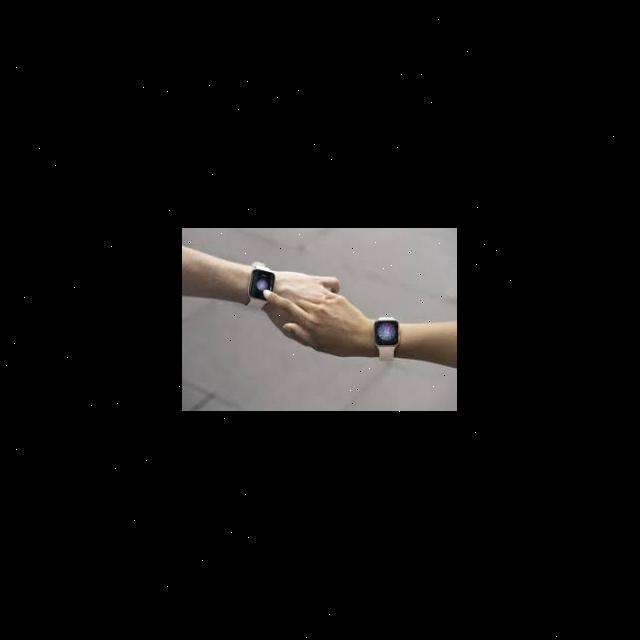watch: (236, 243, 286, 332), (360, 302, 415, 378)
